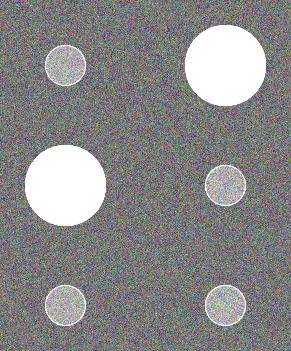I: (19, 16, 273, 336)
